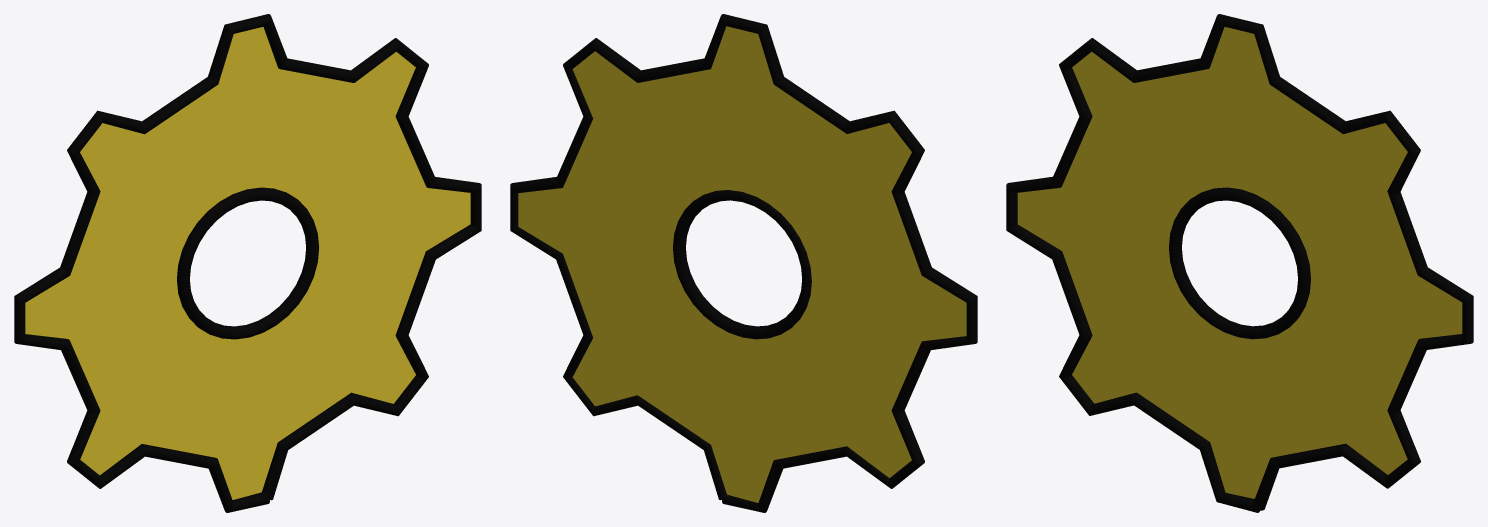
The model's file is Toon Gear 1.fbx.
3 renders of one model, left to right at view 1: azimuth 30°, elevation 25°; view 2: azimuth 150°, elevation 25°; view 3: azimuth 330°, elevation 25°, orthographic.
Visible parts, largest first — view 1: Gear; view 2: Gear; view 3: Gear.
Part boxes in pixels (left/top/right/bottom): Gear: left=14, top=14, right=481, bottom=512; Gear: left=510, top=14, right=977, bottom=512; Gear: left=1006, top=14, right=1473, bottom=512.
Size of the model in its own units: 165 by 165 by 4.02.
